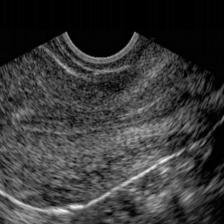no-pcos: (1, 69, 206, 224)
